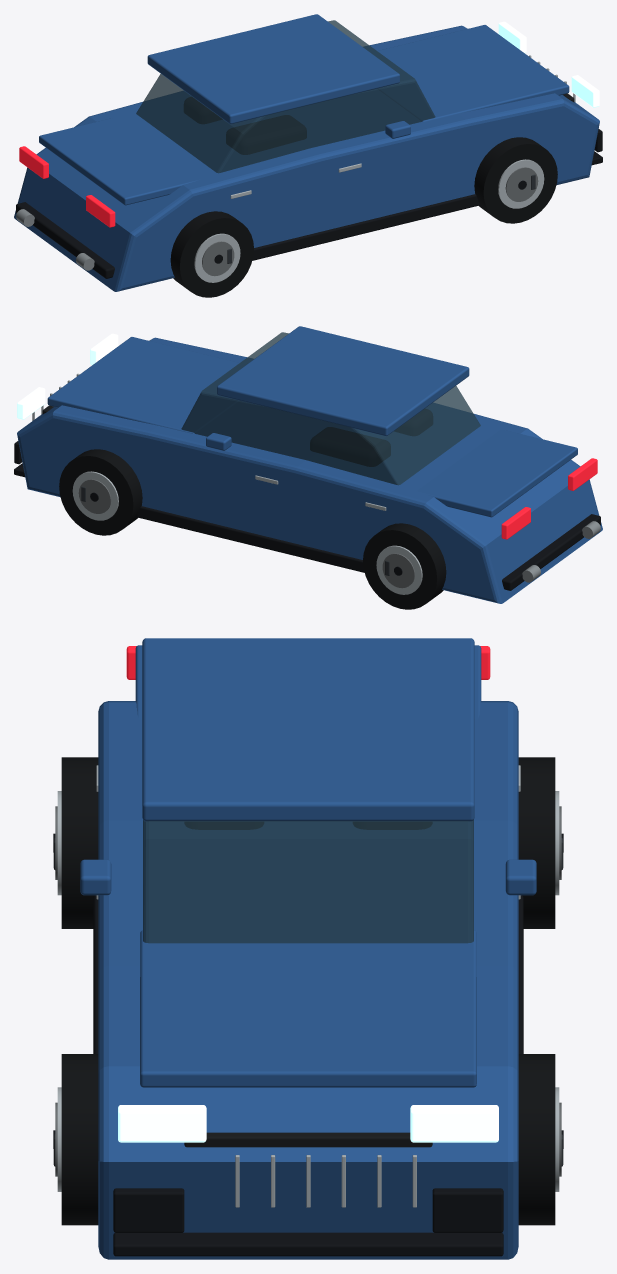
File: ford_contour.glb
3 renders of one model, top to bottom at view 1: azimuth 30°, elevation 25°; view 2: azimuth 150°, elevation 25°; view 3: azimuth 270°, elevation 25°, orthographic. The views are drawn at different scales.
Visible parts, largest first — view 1: sculpted_body, roof, glasshouse, hood_center, rear_deck, rear_right_wheel_tire, front_right_wheel_tire, side_skirt_1, seat_1, rear_diffuser, front_right_wheel_rim, rear_right_wheel_rim (+7 smaller); view 2: sculpted_body, roof, glasshouse, hood_center, rear_deck, rear_left_wheel_tire, front_left_wheel_tire, side_skirt_-1, seat_-1, rear_diffuser, front_left_wheel_rim, rear_left_wheel_rim (+7 smaller); view 3: sculpted_body, roof, hood_center, glasshouse, front_splitter, front_left_wheel_tire, front_right_wheel_tire, rear_left_wheel_tire, rear_right_wheel_tire, front_grille, headlight_left, headlight_right (+7 smaller).
Part boxes in pixels (x1=…): sculpted_body: x1=14, y1=25, x2=599, y2=291; roof: x1=147, y1=14, x2=399, y2=124; glasshouse: x1=136, y1=20, x2=435, y2=173; hood_center: x1=372, y1=25, x2=569, y2=121; rear_deck: x1=39, y1=117, x2=200, y2=205; rear_right_wheel_tire: x1=170, y1=211, x2=253, y2=297; front_right_wheel_tire: x1=474, y1=137, x2=557, y2=223; side_skirt_1: x1=252, y1=194, x2=480, y2=260; seat_1: x1=226, y1=115, x2=306, y2=154; rear_diffuser: x1=16, y1=202, x2=114, y2=278; front_right_wheel_rim: x1=498, y1=159, x2=544, y2=208; rear_right_wheel_rim: x1=194, y1=233, x2=240, y2=282; sculpted_body: x1=17, y1=337, x2=602, y2=603; roof: x1=217, y1=326, x2=469, y2=436; glasshouse: x1=181, y1=332, x2=480, y2=485; hood_center: x1=47, y1=337, x2=244, y2=433; rear_deck: x1=416, y1=429, x2=577, y2=517; rear_left_wheel_tire: x1=363, y1=523, x2=446, y2=609; front_left_wheel_tire: x1=59, y1=449, x2=142, y2=535; side_skirt_-1: x1=136, y1=506, x2=364, y2=572; seat_-1: x1=310, y1=427, x2=390, y2=466; rear_diffuser: x1=502, y1=514, x2=600, y2=590; front_left_wheel_rim: x1=72, y1=471, x2=118, y2=520; rear_left_wheel_rim: x1=376, y1=545, x2=422, y2=594; sculpted_body: x1=98, y1=701, x2=518, y2=1259; roof: x1=142, y1=638, x2=474, y2=821; hood_center: x1=140, y1=930, x2=476, y2=1087; glasshouse: x1=143, y1=820, x2=473, y2=943; front_splitter: x1=113, y1=1232, x2=503, y2=1256; front_left_wheel_tire: x1=518, y1=1054, x2=555, y2=1225; front_right_wheel_tire: x1=61, y1=1054, x2=98, y2=1225; rear_left_wheel_tire: x1=518, y1=757, x2=555, y2=928; rear_right_wheel_tire: x1=61, y1=757, x2=98, y2=928; front_grille: x1=184, y1=1132, x2=432, y2=1147; headlight_left: x1=410, y1=1105, x2=498, y2=1142; headlight_right: x1=118, y1=1105, x2=206, y2=1142.
Size of the model in its own units: 4.92 by 1.47 by 2.14.
